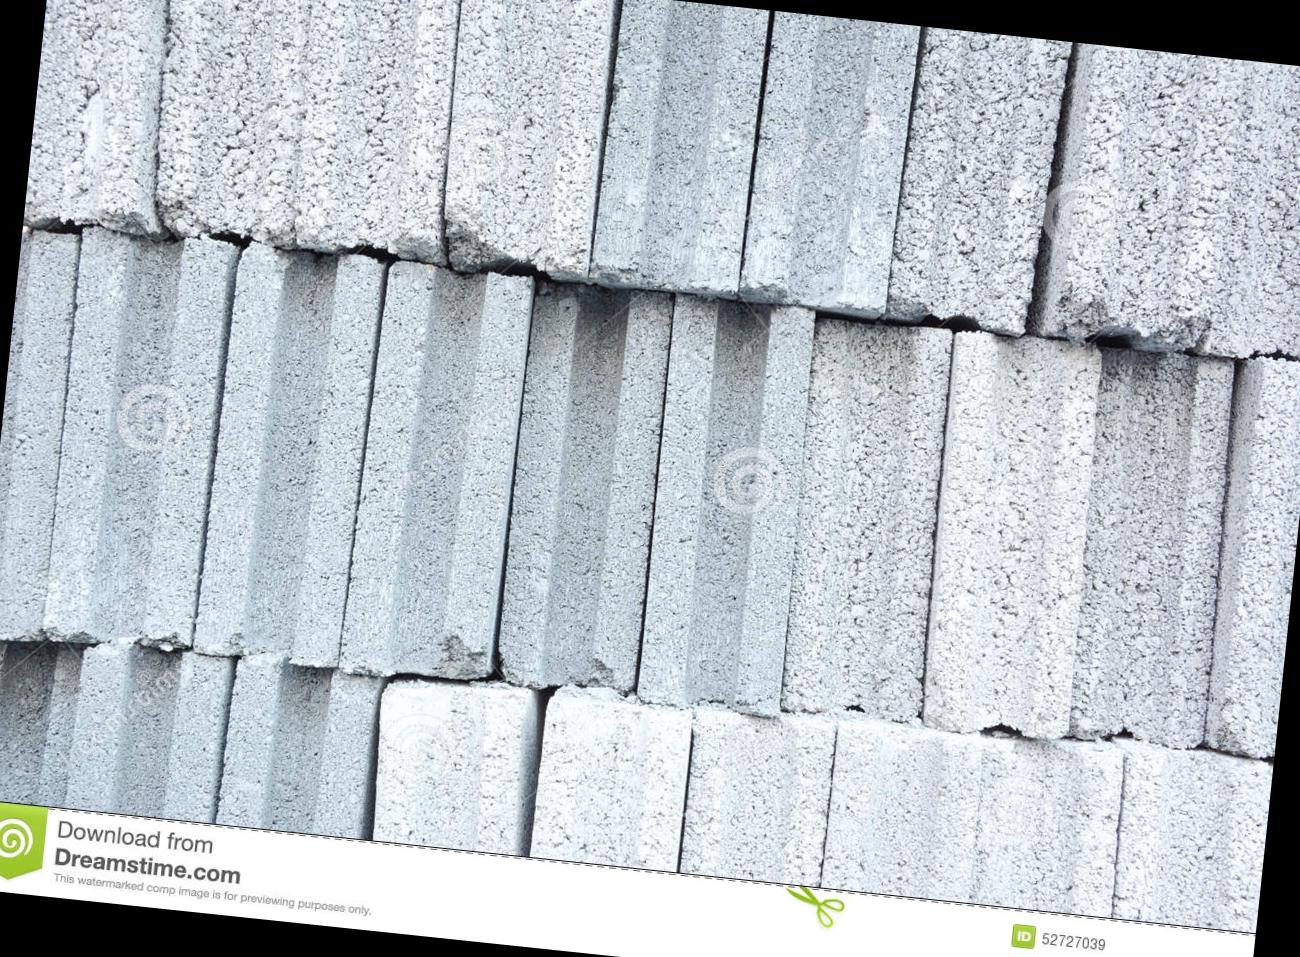brick: (339, 259, 532, 688), (41, 227, 234, 651), (197, 240, 384, 667), (634, 295, 822, 719), (916, 327, 1107, 744), (778, 313, 961, 724), (497, 279, 673, 695), (1067, 349, 1247, 751), (1046, 42, 1234, 355), (889, 27, 1073, 339), (744, 10, 917, 319), (590, 0, 768, 298), (435, 0, 615, 282), (285, 0, 472, 265), (142, 0, 322, 246), (25, 0, 187, 235), (1109, 743, 1274, 932), (368, 672, 536, 855), (217, 654, 382, 838), (967, 731, 1129, 917), (532, 686, 693, 871), (1204, 59, 1300, 365), (66, 643, 229, 823), (824, 718, 982, 900), (681, 706, 837, 885), (0, 632, 83, 806)
